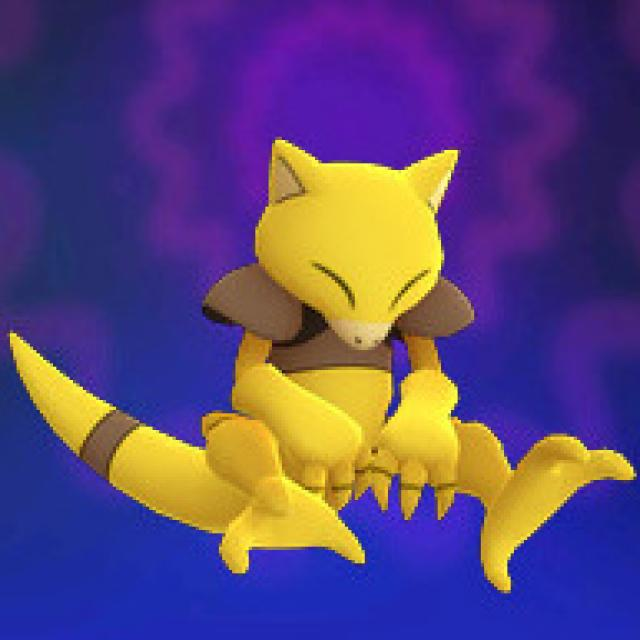Abra: (175, 145, 497, 579)
